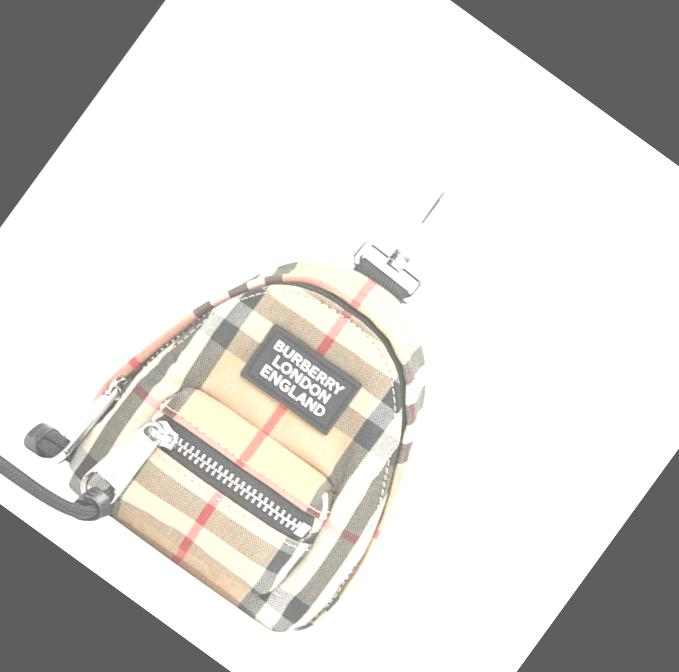BURBERRY: (270, 338, 344, 396)
